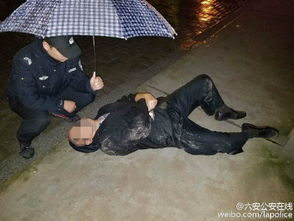fall: (70, 70, 280, 166)
